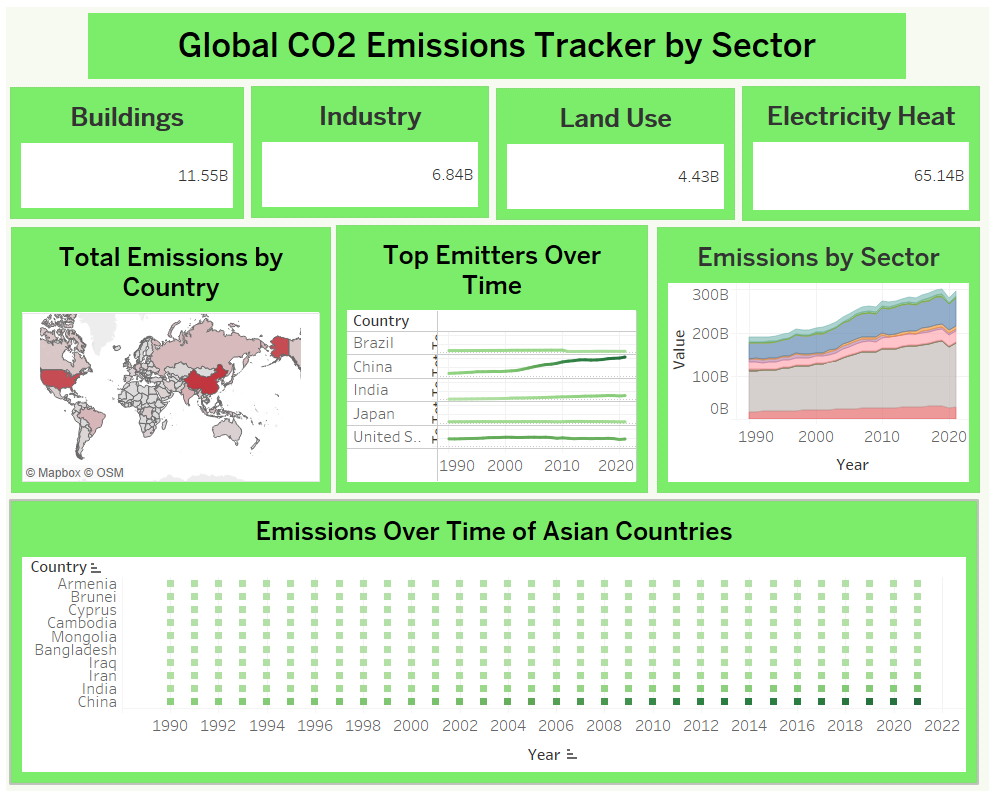

Layout of this report page (visuals, bound fields, positions):
{"tool":"tableau","page":{"name":"Dashboard 1","canvas":[1000,800],"ordinal":0},"visuals":[{"type":"text","box":[90,14,818,66]},{"type":"worksheet","title":"Industry","mark":"Automatic","box":[253,87,238,132]},{"type":"worksheet","title":"Electricity Heat","mark":"Automatic","box":[744,87,238,135]},{"type":"worksheet","title":"Buildings","mark":"Automatic","box":[12,88,234,132]},{"type":"worksheet","title":"Land Use","mark":"Automatic","box":[498,89,239,132]},{"type":"worksheet","title":"Top Emitters Over Time","mark":"Line","rows":["country","total_emissions"],"cols":["year"],"box":[338,226,312,268]},{"type":"worksheet","title":"Total Emissions by Country","mark":"Automatic","box":[13,228,320,266]},{"type":"worksheet","title":"Emissions by Sector","mark":"Area","cols":["year"],"box":[659,228,323,266]},{"type":"worksheet","title":"Emissions Over Time","mark":"Square","rows":["country"],"cols":["year"],"box":[13,502,966,282]}]}

Visuals, with their boxes in screenshot pixels (x1, y1, x2, y2), scaled from the page's 1000x800 canvas onto the 992x798 screenshot:
text: l=89, t=14, r=901, b=80
"Industry" worksheet: l=251, t=87, r=487, b=218
"Electricity Heat" worksheet: l=738, t=87, r=974, b=221
"Buildings" worksheet: l=12, t=88, r=244, b=219
"Land Use" worksheet: l=494, t=89, r=731, b=220
"Top Emitters Over Time" worksheet (Line marks): l=335, t=225, r=645, b=493
"Total Emissions by Country" worksheet: l=13, t=227, r=330, b=493
"Emissions by Sector" worksheet (Area marks): l=654, t=227, r=974, b=493
"Emissions Over Time" worksheet (Square marks): l=13, t=501, r=971, b=782
